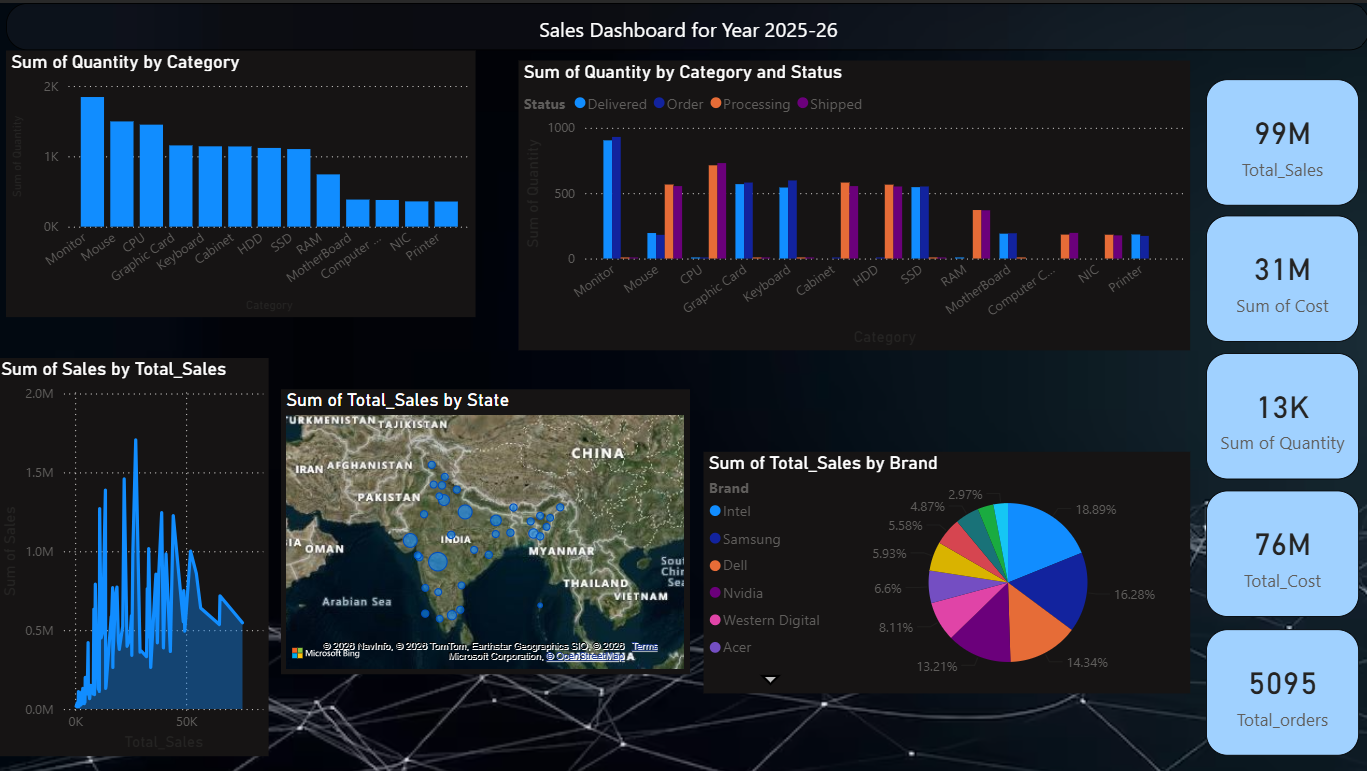

What the dashboard file says about the page in this screenshot:
{"tool":"powerbi","page":{"name":"Page 1","canvas":[1280,720],"ordinal":0},"visuals":[{"type":"textbox","box":[9.8,0,1269.9,44.2],"z":0},{"type":"card","fields":{"Values":["Sum(Sales_Data.Total_Sales)"]},"box":[1125.2,71.2,142.3,117.8],"z":1000},{"type":"card","fields":{"Values":["Sum(Sales_Data.Cost)"]},"box":[1125.2,197.5,142.3,117.8],"z":2000},{"type":"card","fields":{"Values":["Sum(Sales_Data.Quantity)"]},"box":[1125.2,325.2,142.3,117.8],"z":3000},{"type":"card","fields":{"Values":["Sum(Sales_Data.Total_Cost)"]},"box":[1125.2,454,142.3,117.8],"z":4000},{"type":"card","fields":{"Values":["CountNonNull(Sales_Data.Order_Number)"]},"box":[1125.2,582.8,142.3,117.8],"z":5000},{"type":"clusteredColumnChart","fields":{"Category":["Sales_Data.Category"],"Series":["Sales_Data.Status"],"Y":["Sum(Sales_Data.Quantity)"]},"box":[485.9,54,624.5,269.9],"z":6000},{"type":"clusteredColumnChart","fields":{"Y":["Sum(Sales_Data.Quantity)"],"Category":["Sales_Data.Category"]},"box":[9.8,44.2,436.8,247.9],"z":7000},{"type":"pieChart","fields":{"Category":["Sales_Data.Brand"],"Y":["Sum(Sales_Data.Total_Sales)"]},"box":[657.7,417.2,452.8,224.5],"z":8000},{"type":"map","fields":{"Category":["State_list.State"],"Size":["Sum(Sales_Data.Total_Sales)"]},"box":[265,359.5,380.4,265],"z":9000},{"type":"areaChart","fields":{"Category":["Sales_Data.Total_Sales"],"Y":["Sum(Sales_Data.Sales)"]},"box":[0,330.1,254,370.6],"z":10000}]}

Visuals, with their boxes in screenshot pixels (x1, y1, x2, y2), scaled from the page's 1280x720 canvas onto the 1367x771 screenshot:
textbox: Rect(10, 0, 1366, 47)
card - Sum(Sales_Data.Total_Sales): Rect(1202, 76, 1354, 202)
card - Sum(Sales_Data.Cost): Rect(1202, 211, 1354, 338)
card - Sum(Sales_Data.Quantity): Rect(1202, 348, 1354, 474)
card - Sum(Sales_Data.Total_Cost): Rect(1202, 486, 1354, 612)
card - CountNonNull(Sales_Data.Order_Number): Rect(1202, 624, 1354, 750)
clusteredColumnChart - Sales_Data.Category x Sales_Data.Status: Rect(519, 58, 1186, 347)
clusteredColumnChart - Sum(Sales_Data.Quantity) x Sales_Data.Category: Rect(10, 47, 477, 313)
pieChart - Sales_Data.Brand x Sum(Sales_Data.Total_Sales): Rect(702, 447, 1186, 687)
map - State_list.State x Sum(Sales_Data.Total_Sales): Rect(283, 385, 689, 669)
areaChart - Sales_Data.Total_Sales x Sum(Sales_Data.Sales): Rect(0, 353, 271, 750)
